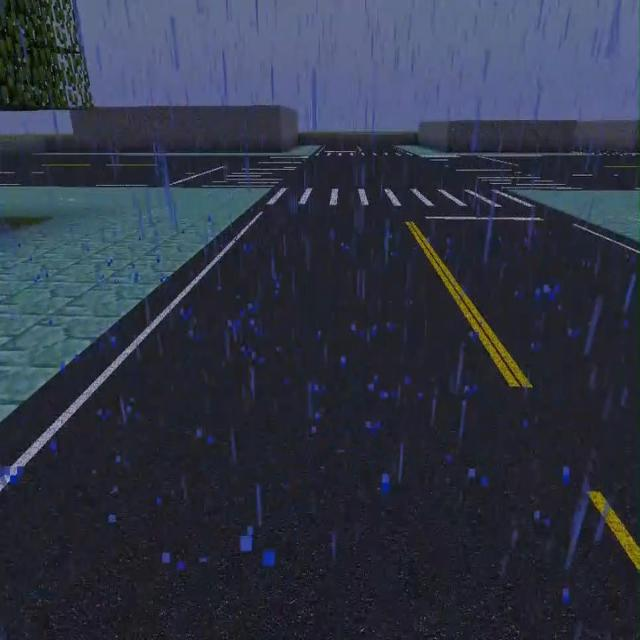8: (259, 187, 539, 207), (429, 157, 583, 188), (200, 157, 304, 186), (313, 150, 418, 157)
crosswalk: (0, 211, 639, 639), (0, 156, 262, 185), (283, 157, 487, 185), (499, 153, 639, 187), (300, 134, 416, 148)
road: (0, 189, 262, 422), (518, 191, 639, 241), (0, 144, 321, 154), (397, 145, 597, 156)
